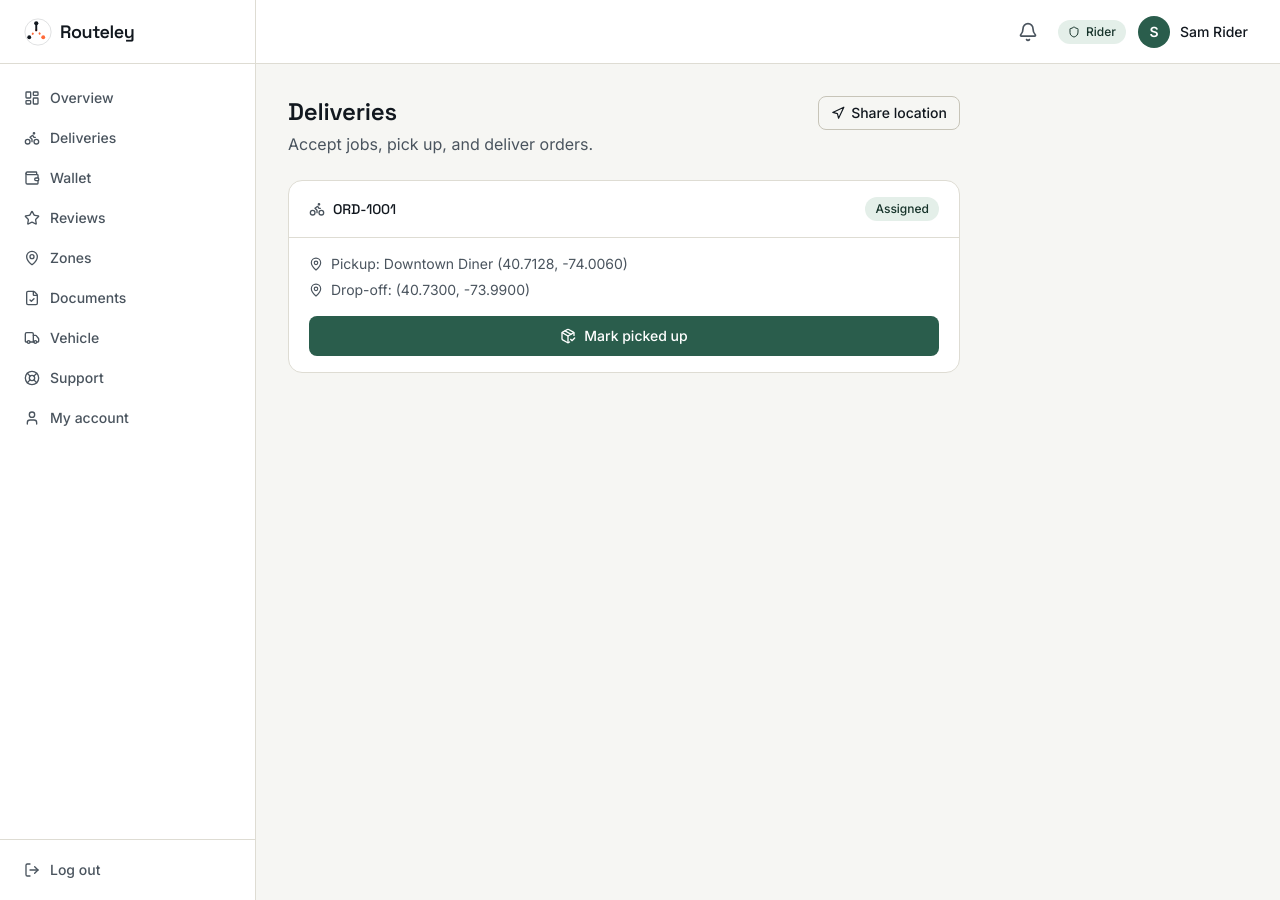
Test: DeliveriesPage - critical rider delivery flow › advances an assigned delivery through pickup
Click the button "Mark picked up": {"x": 624, "y": 336} [309, 316, 939, 356]
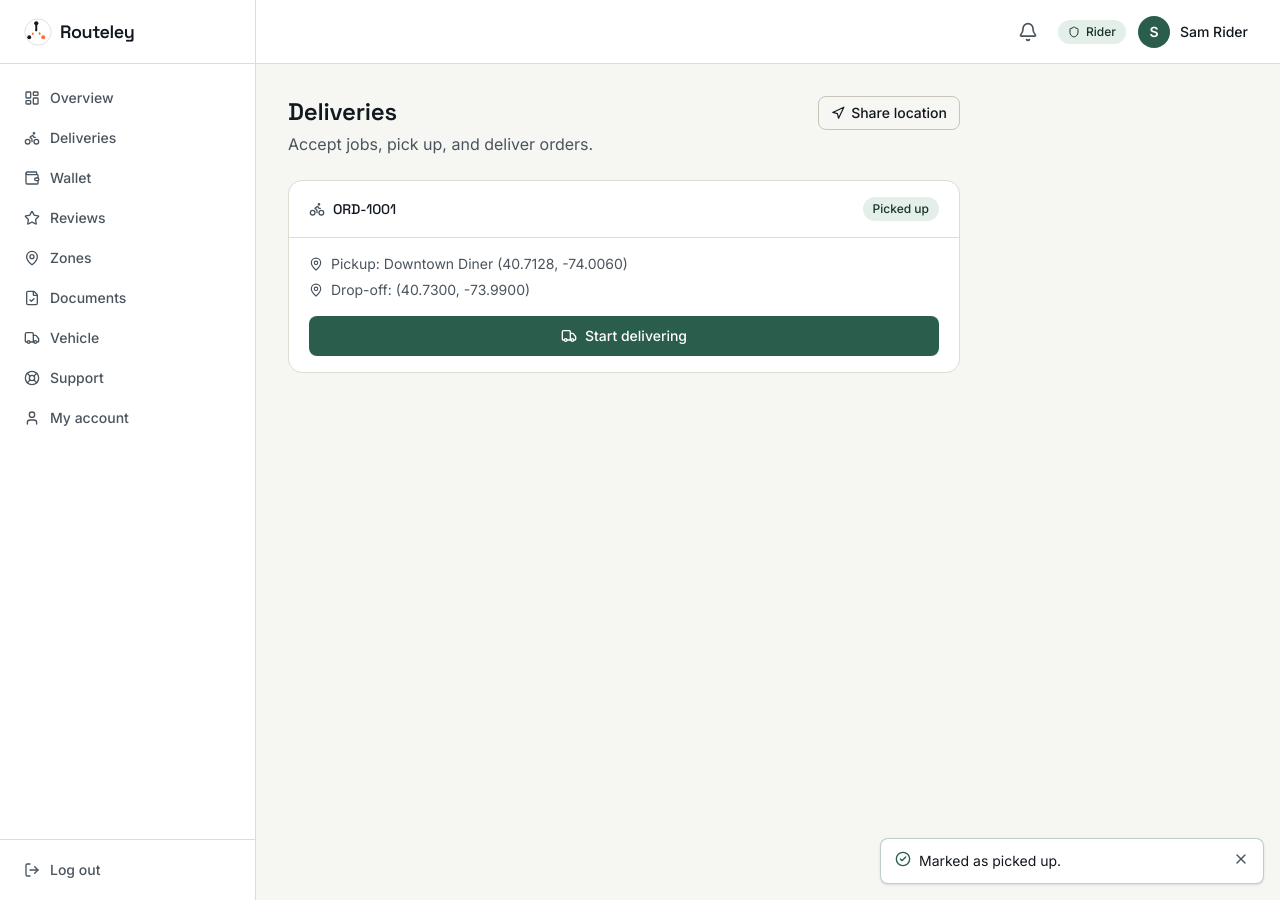
Expected: the text "Marked as picked up." is shown, [919, 852, 1061, 869]
Expected: the button "Start delivering" is shown, [309, 316, 939, 356]
